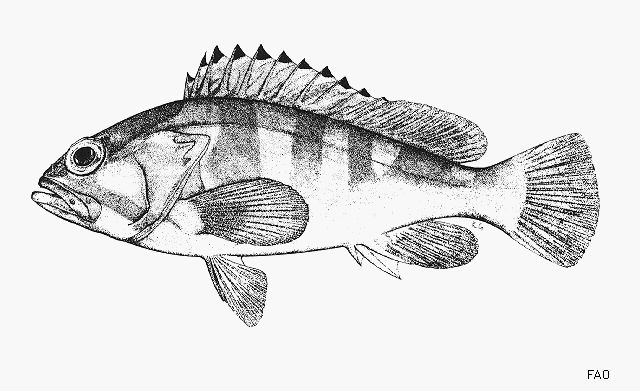fish: (31, 43, 599, 327)
